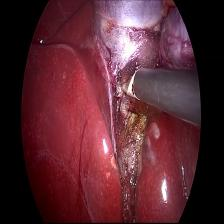Hook: (114, 62, 145, 108)
